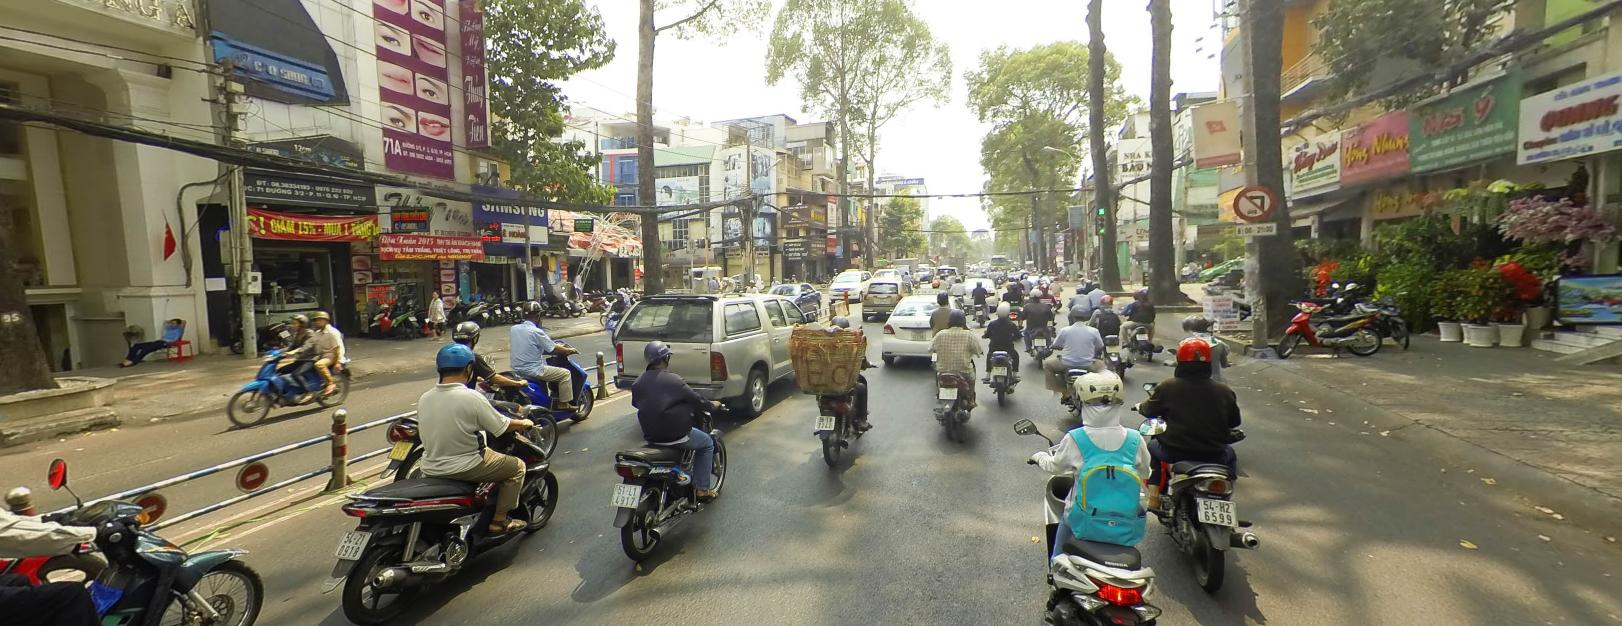Cam re: (1230, 184, 1276, 219)
